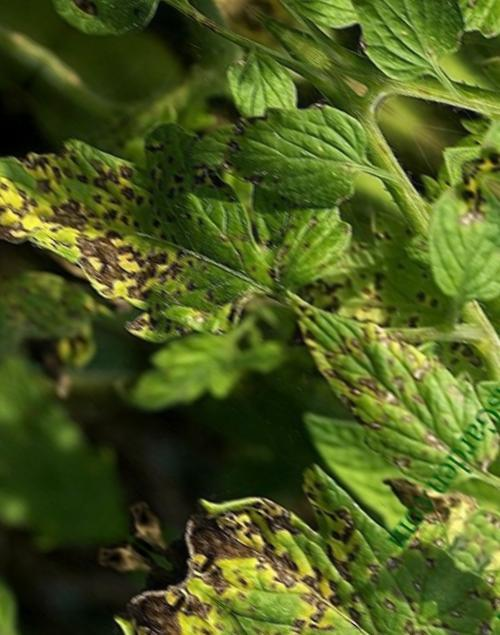Tomato Septoria leaf spot: (0, 63, 307, 402), (158, 416, 456, 635), (238, 260, 500, 508)
